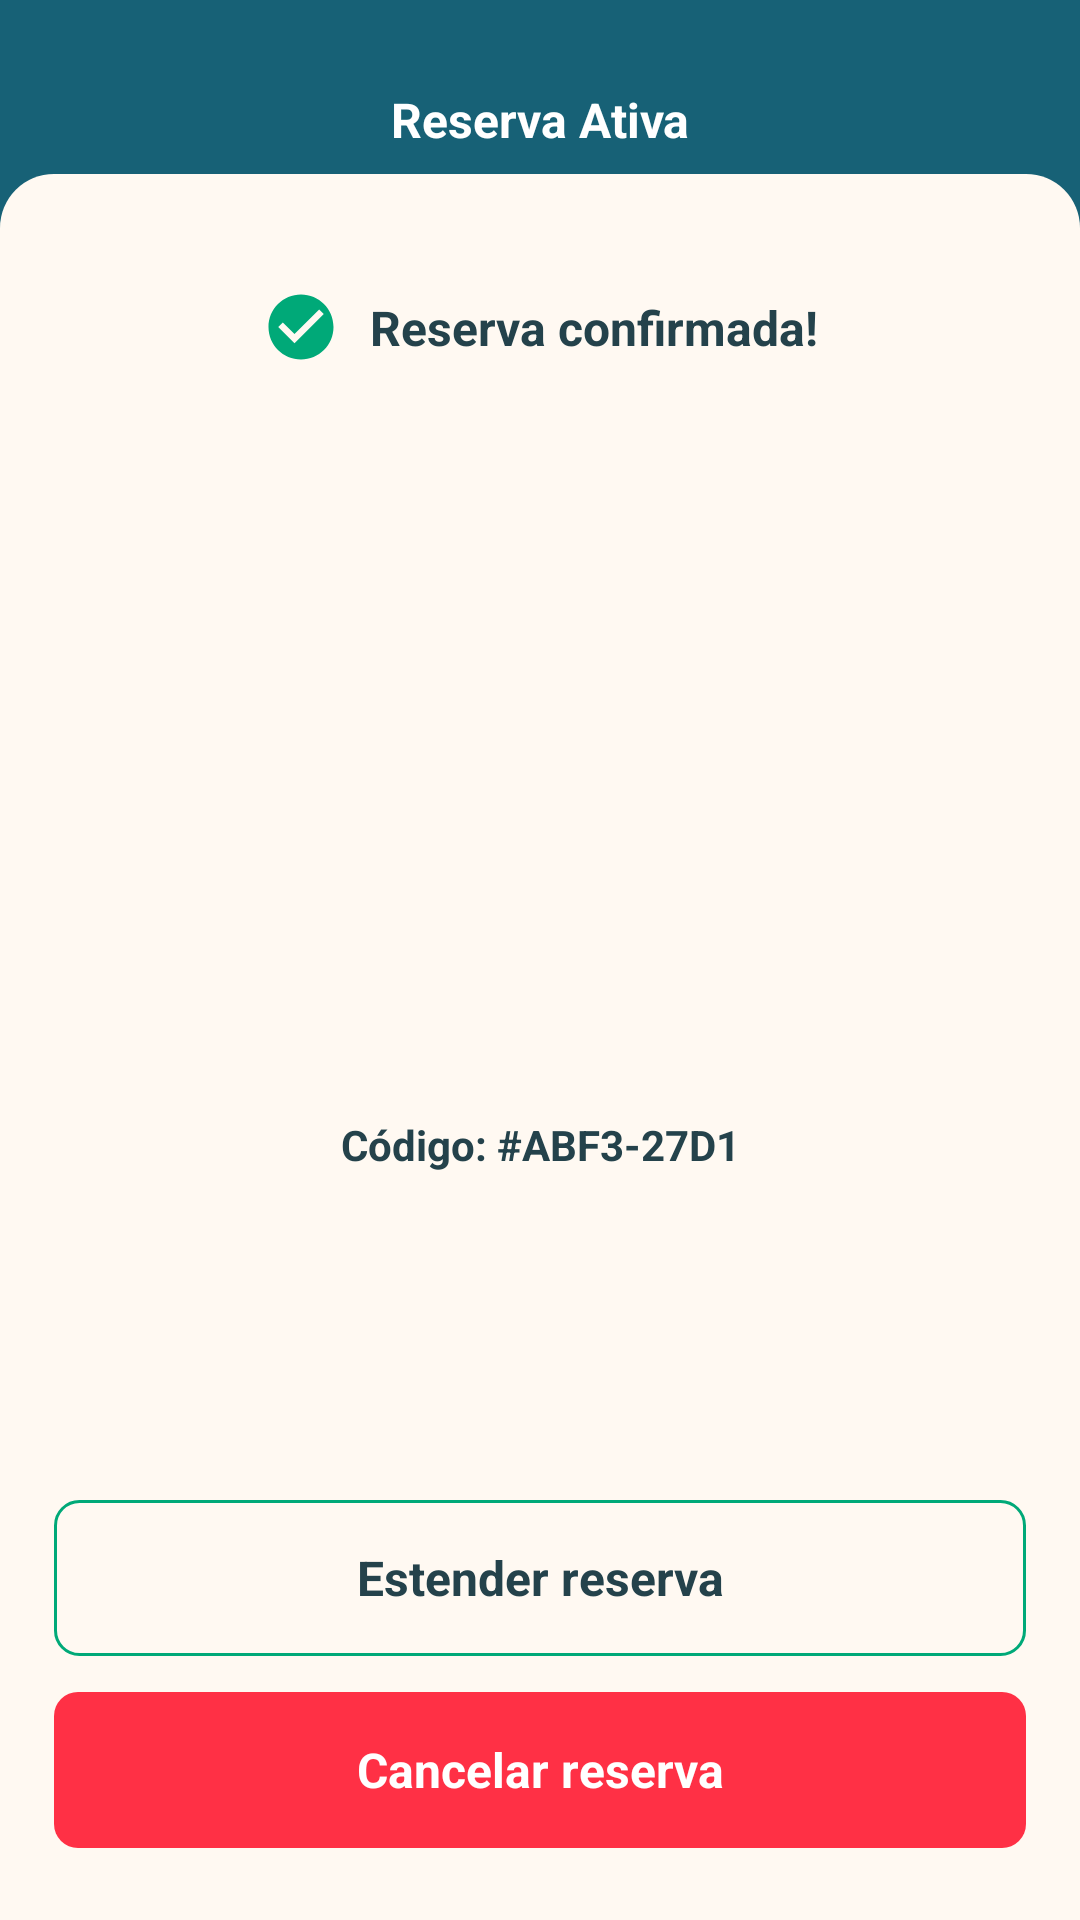

Icons on this 1080 x 1920 Android screen, each with the point to tap as [x,y]:
check circle: [301,327]
